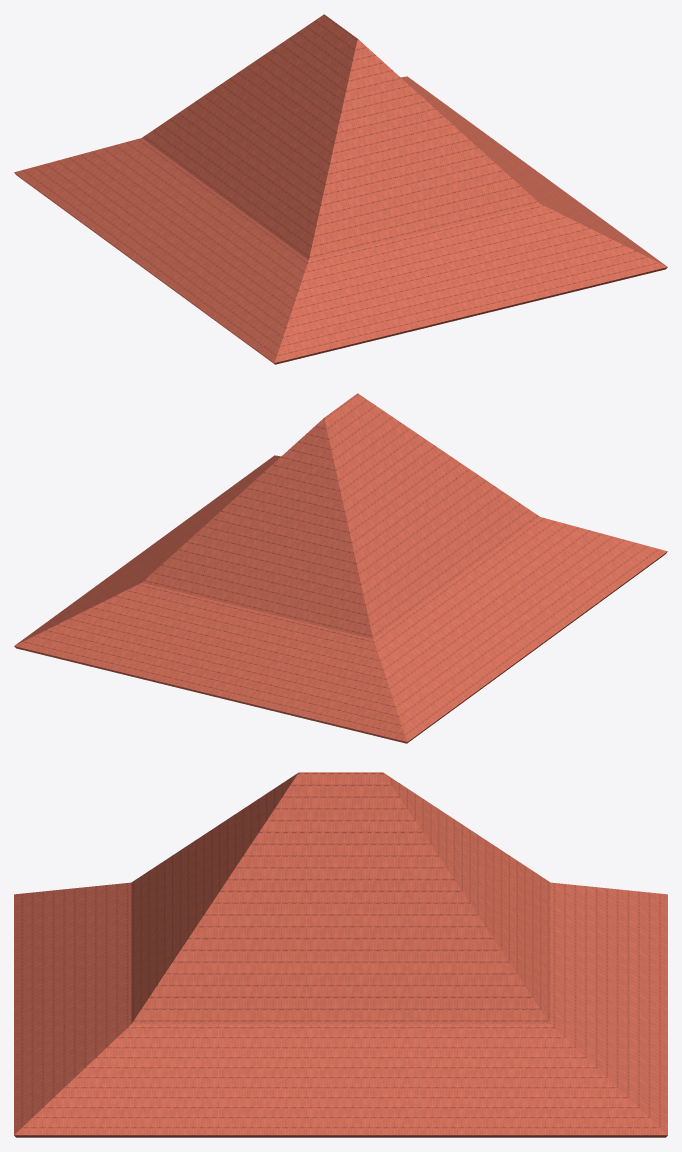
Rendered from Joglo_part_355.fbx.
The picture shows the model from 3 angles, top to bottom: view 1: azimuth 30°, elevation 25°; view 2: azimuth 150°, elevation 25°; view 3: azimuth 270°, elevation 25°; orthographic projection. The views are drawn at different scales.
Visible parts, largest first — view 1: Mesh409_Roof_Tiles___French_Red_0.001; view 2: Mesh409_Roof_Tiles___French_Red_0.001; view 3: Mesh409_Roof_Tiles___French_Red_0.001.
Boxes of the visible parts, left/top/right/bottom form: Mesh409_Roof_Tiles___French_Red_0.001: left=14, top=14, right=667, bottom=364; Mesh409_Roof_Tiles___French_Red_0.001: left=14, top=393, right=667, bottom=743; Mesh409_Roof_Tiles___French_Red_0.001: left=14, top=772, right=667, bottom=1137.
Bounding box in the file's own units: 535 × 255 × 614.
